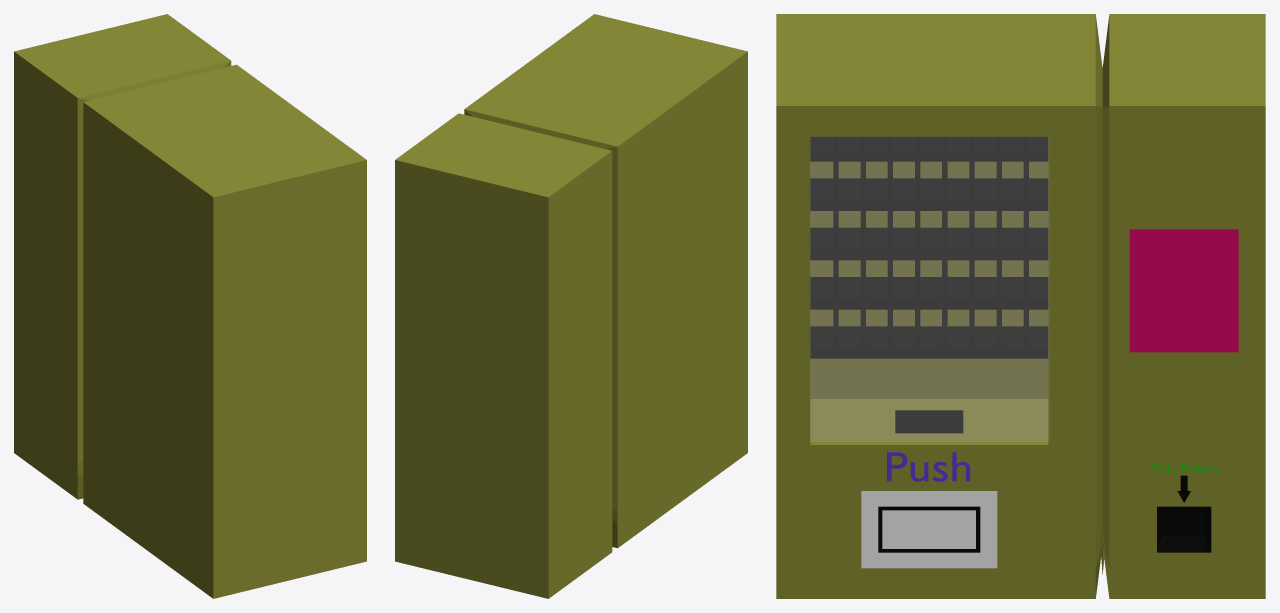
The model's file is vending machine.fbx.
3 renders of one model, left to right at view 1: azimuth 30°, elevation 25°; view 2: azimuth 150°, elevation 25°; view 3: azimuth 270°, elevation 25°, orthographic. The views are drawn at different scales.
Parts seen in each view (by area): view 1: Cube; view 2: Cube; view 3: Cube, Cube.001, Cube.004, Cube.002, Cube.003, Cube.006, Cube.005, Text.
Part boxes in pixels (x1,y1,x2,y2): Cube: [14, 14, 366, 598]; Cube: [395, 14, 747, 598]; Cube: [776, 14, 1265, 598]; Cube.001: [810, 136, 1048, 441]; Cube.004: [810, 227, 1048, 260]; Cube.002: [810, 277, 1048, 309]; Cube.003: [810, 178, 1048, 210]; Cube.006: [810, 326, 1048, 358]; Cube.005: [810, 136, 1048, 161]; Text: [887, 452, 970, 481].
Size of the model in its own units: 401 by 1000 by 900.
